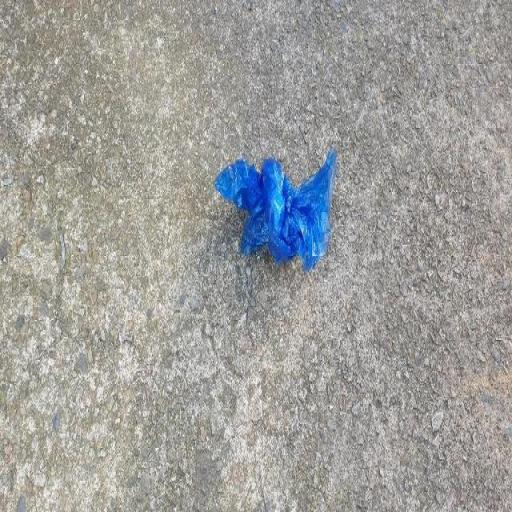plastic-bag: (214, 146, 338, 274)
